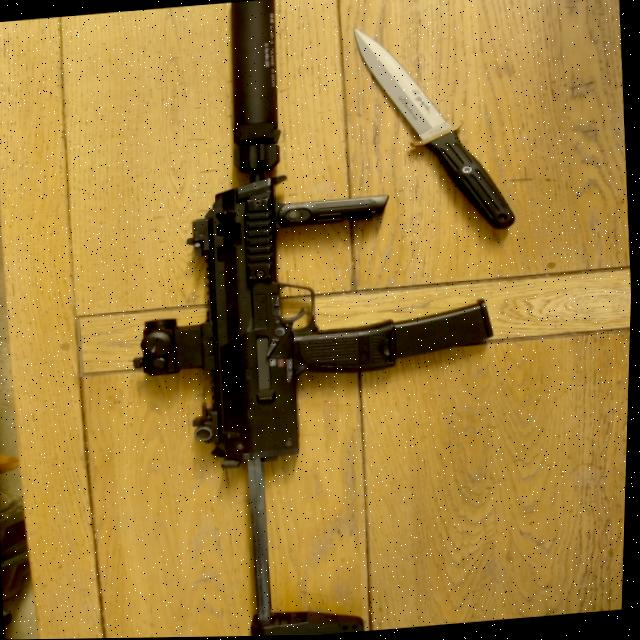firearm: (103, 0, 518, 639)
knife: (343, 16, 526, 247)
